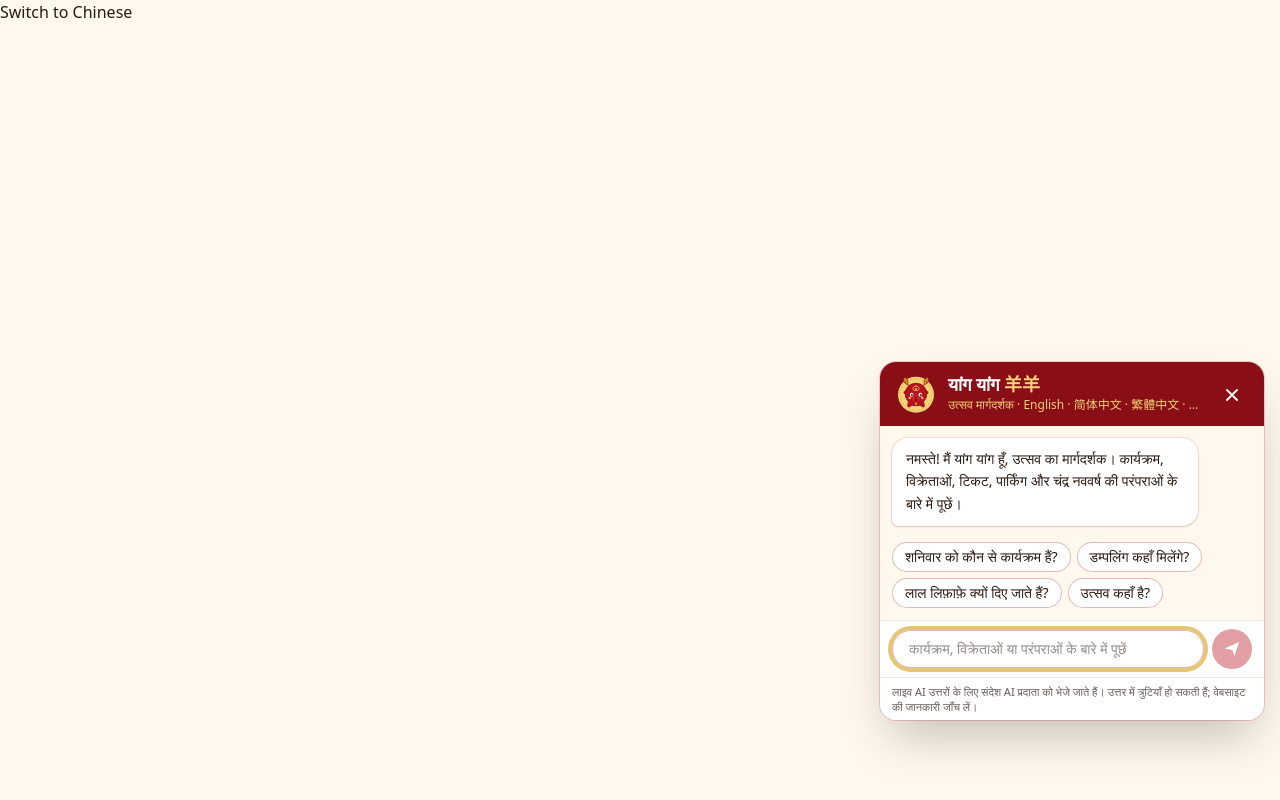
chat panel source-of-truth and recovery › answers the hi event-address question locally even with live AI configured
This screenshot has width=1280, height=800.
In the field with test id "chat-input": (1048, 649) [892,630,1204,668], type "उत्सव का पता कहाँ है?"
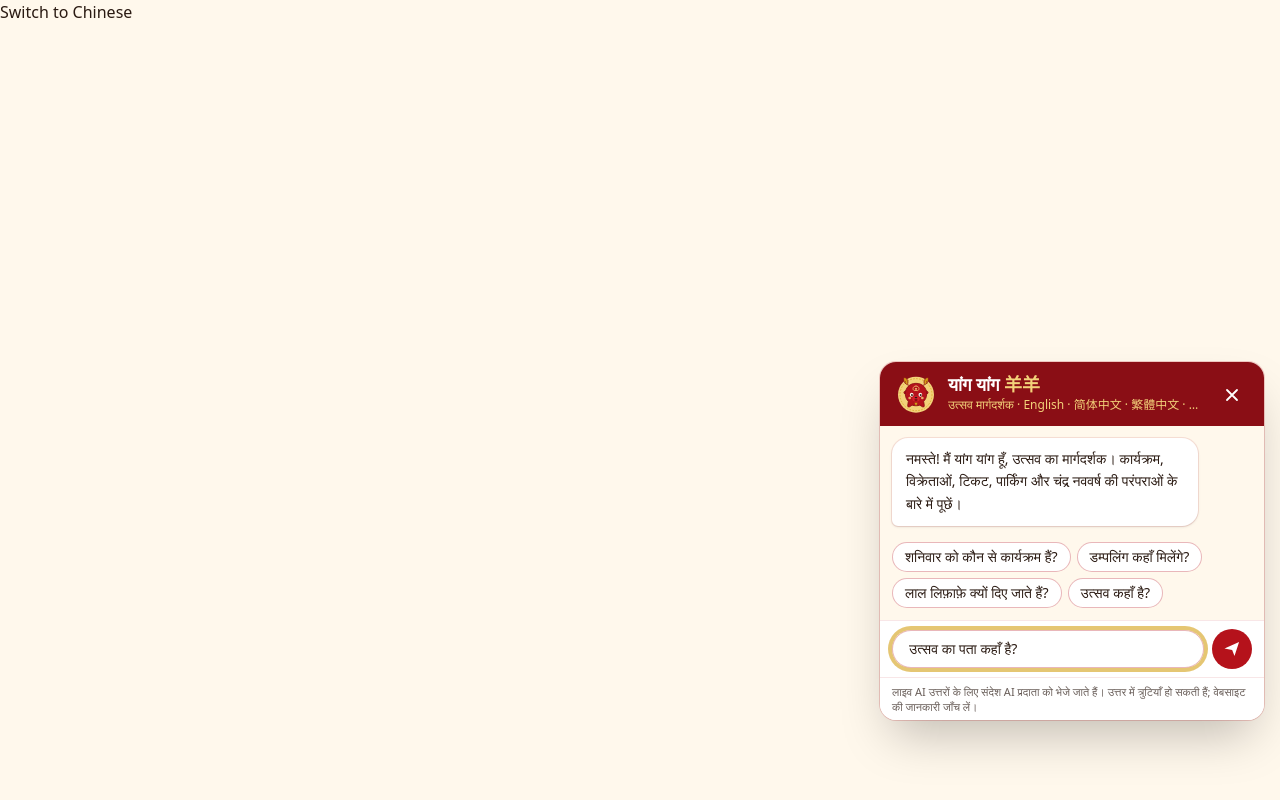
Click the button with test id "chat-send": (1232, 649) [1212,629,1252,669]
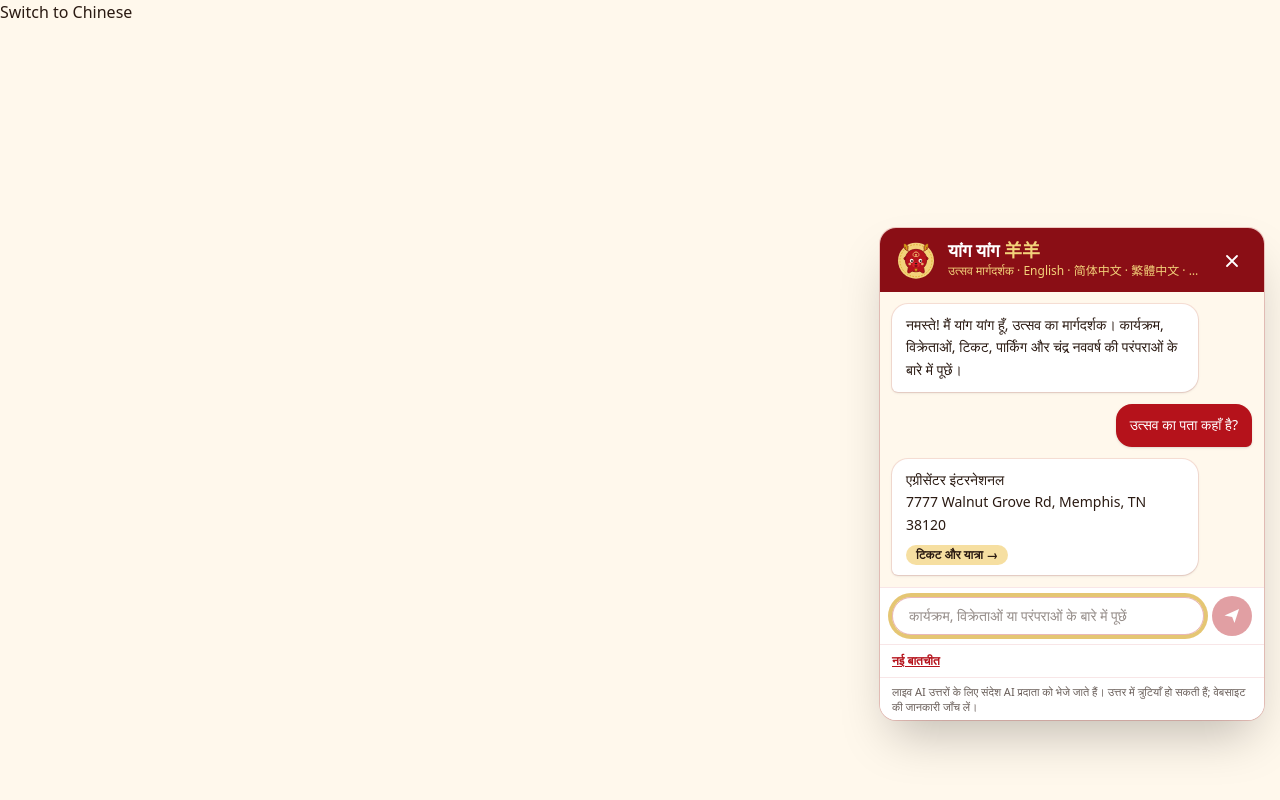
Expected: the element with test id "chat-bot" does not show "Food Hall", [892,458,1198,575]
Now the number of elements with test id "chat-bot" is 2, box [892,304,1198,392]; [892,458,1198,575]
Now the element with test id "chat-bot" shows "7777 Walnut Grove Rd, Memphis, TN 38120", box [906,470,1146,534]
